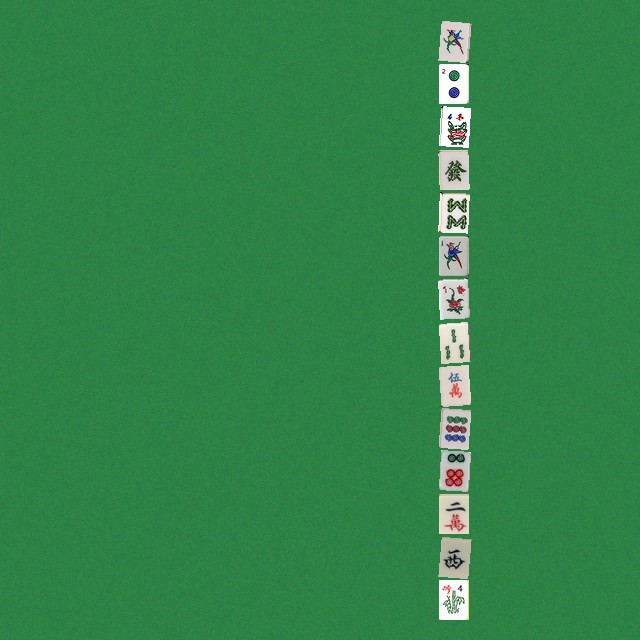tile: (438, 20, 468, 60), (438, 63, 468, 103), (438, 106, 468, 146), (438, 149, 468, 189), (438, 192, 468, 232), (438, 235, 468, 275), (438, 278, 468, 318), (438, 321, 468, 361), (438, 364, 468, 404), (438, 407, 468, 447), (438, 450, 468, 490), (438, 493, 468, 533), (438, 536, 468, 576), (438, 579, 468, 619)
